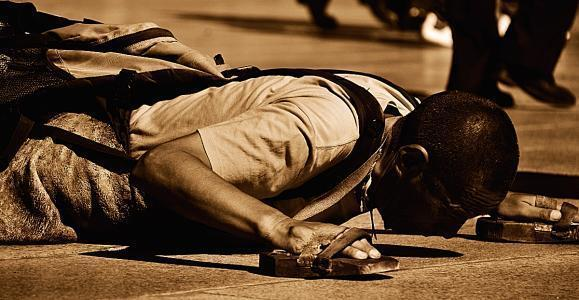Fall-Detected: (0, 54, 579, 273)
